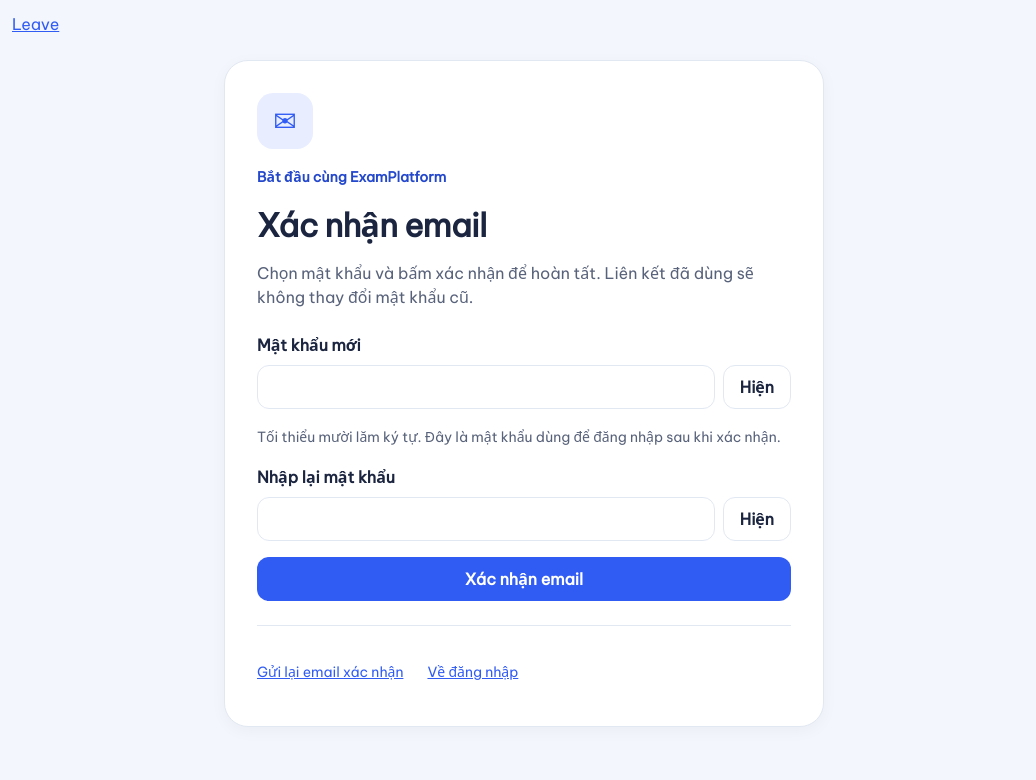
Identity explicit recovery › keeps verification retry immutable after an unknown acknowledgement and never retries automatically
Type "fixture-password-ok" into the password field labelled "Mật khẩu mới" at (486, 387), box [257, 365, 715, 409]
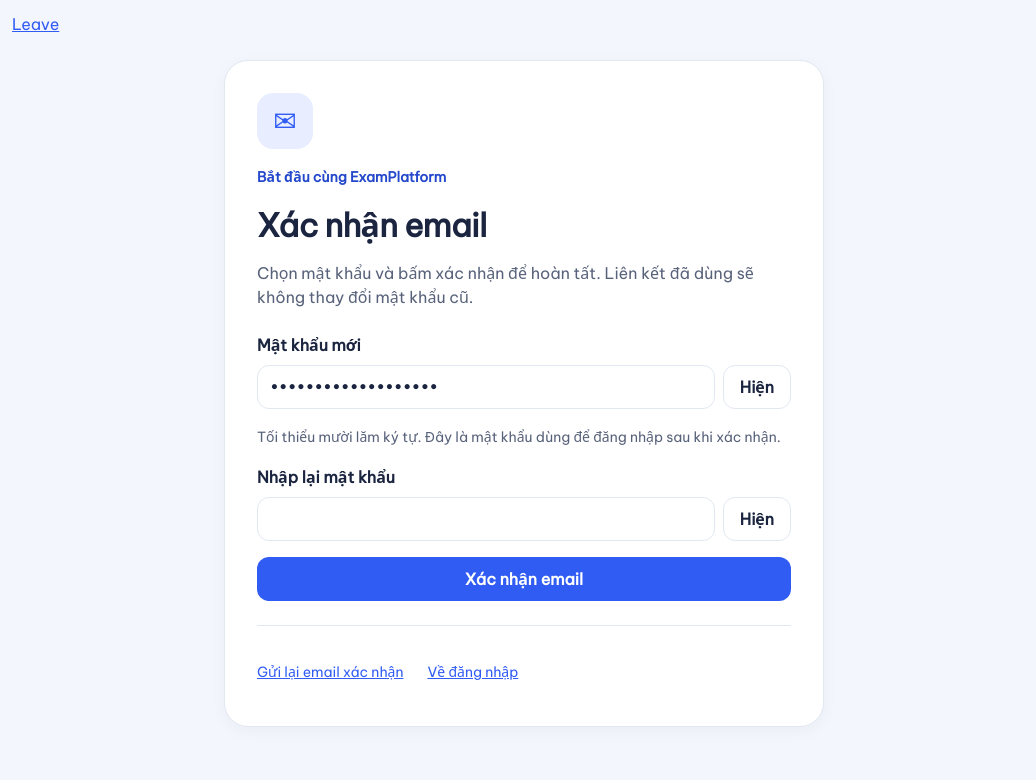
Type "fixture-password-ok" into the password field labelled "Nhập lại mật khẩu" at (486, 519), box [257, 497, 715, 541]
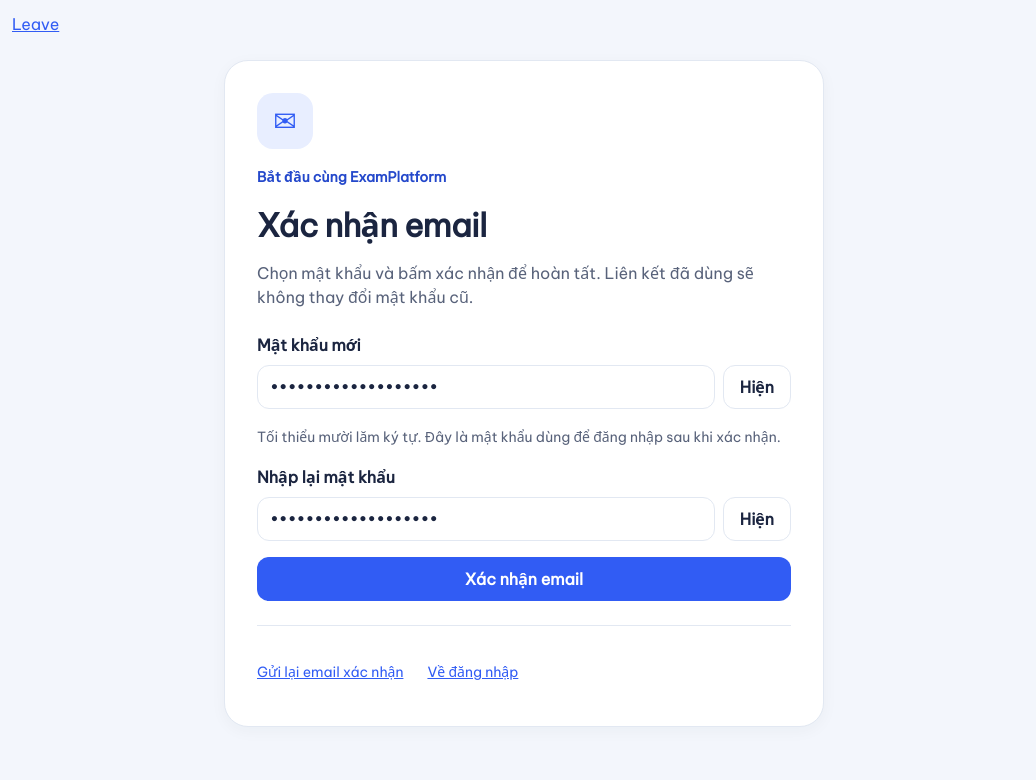
Click the button "Xác nhận email" at (524, 579), box [257, 557, 791, 601]
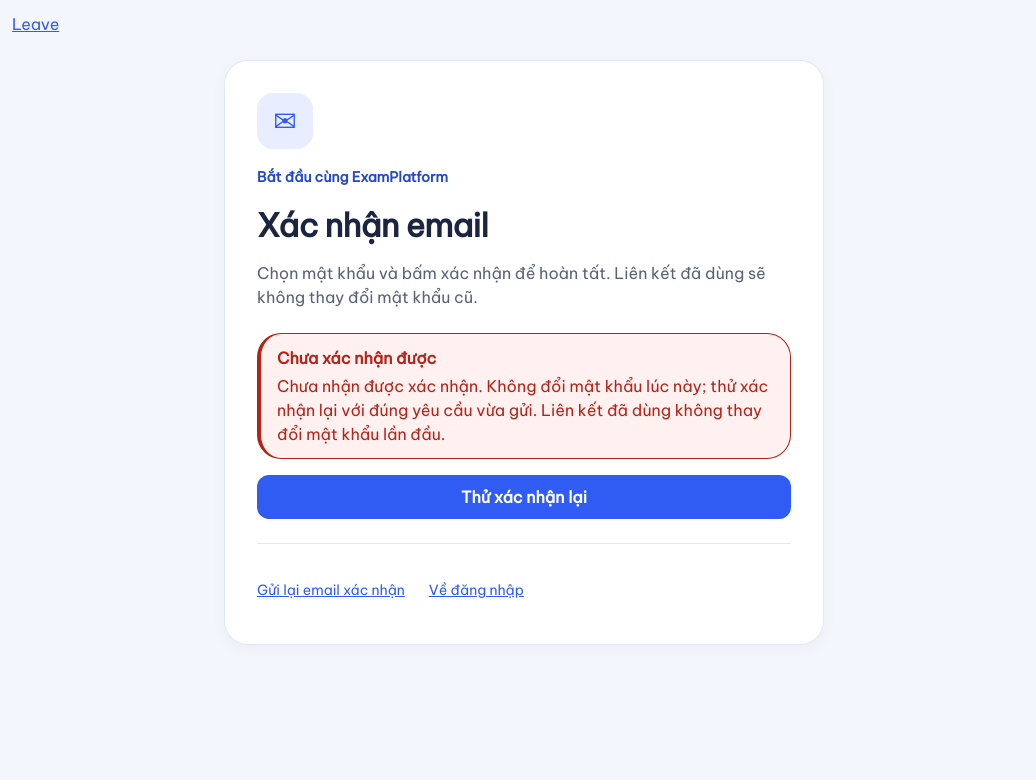
Now the label labelled "Mật khẩu mới" is gone
Click the button "Thử xác nhận lại" at (524, 497), box [257, 475, 791, 519]
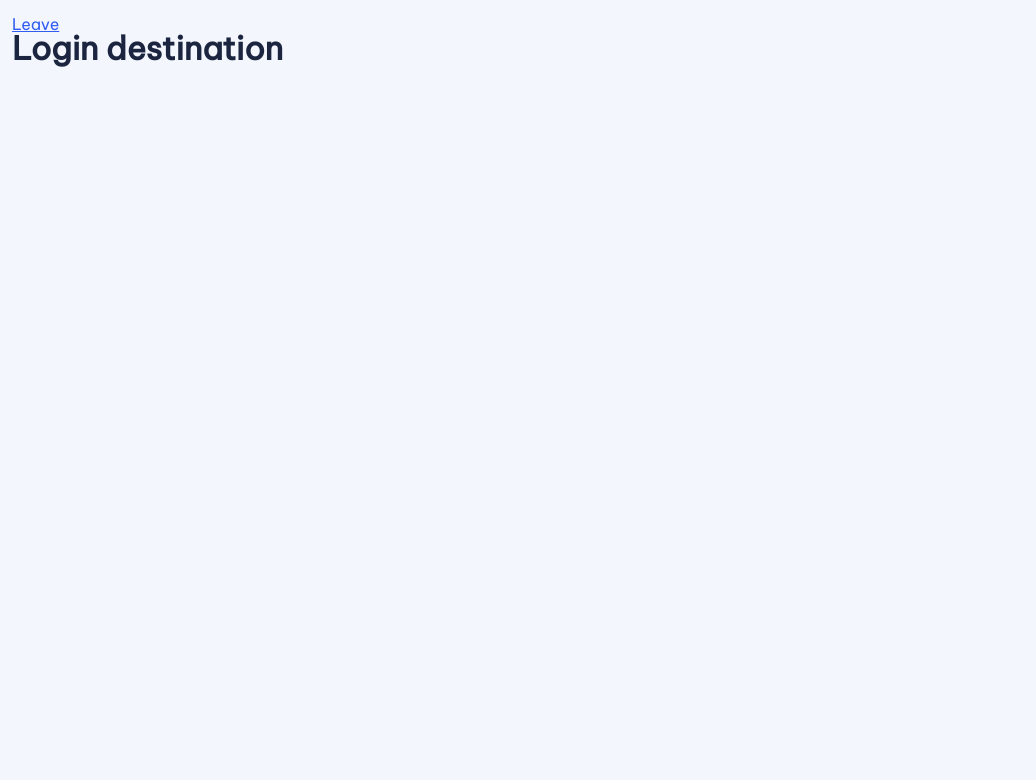
Now the heading "Login destination" is shown, box [12, 28, 283, 68]
